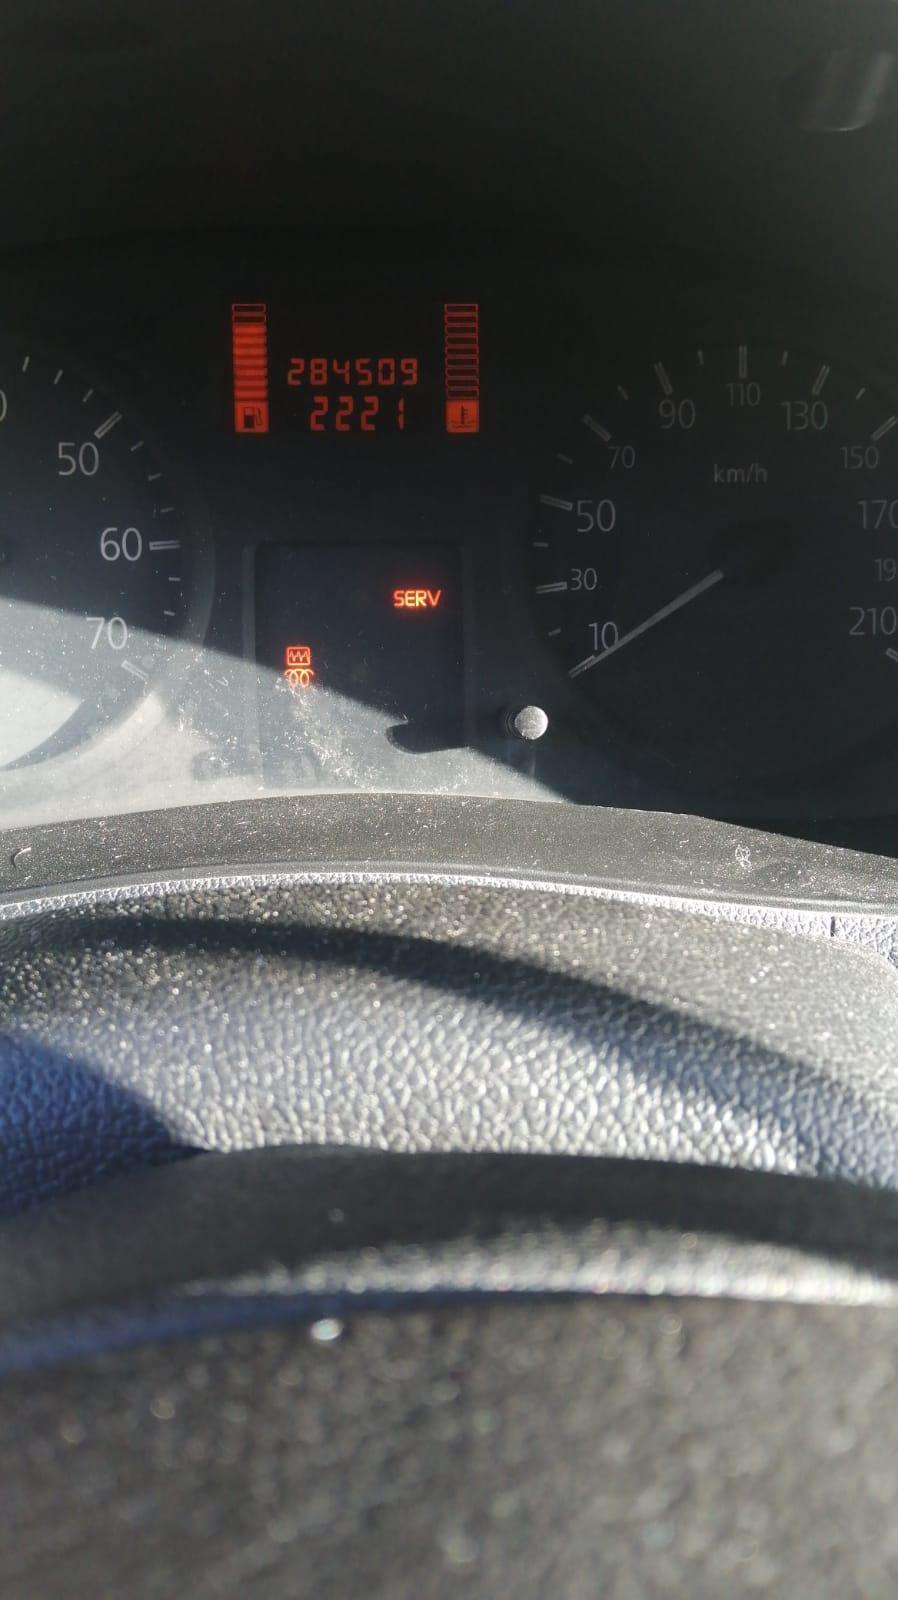0: (376, 357, 395, 385)
1: (397, 396, 404, 431)
2: (359, 395, 380, 432), (334, 395, 354, 432), (308, 395, 328, 431), (286, 357, 306, 386)
4: (332, 358, 350, 385)
5: (355, 357, 372, 386)
8: (309, 357, 328, 385)
9: (399, 357, 418, 385)
odometer: (215, 284, 498, 447)
